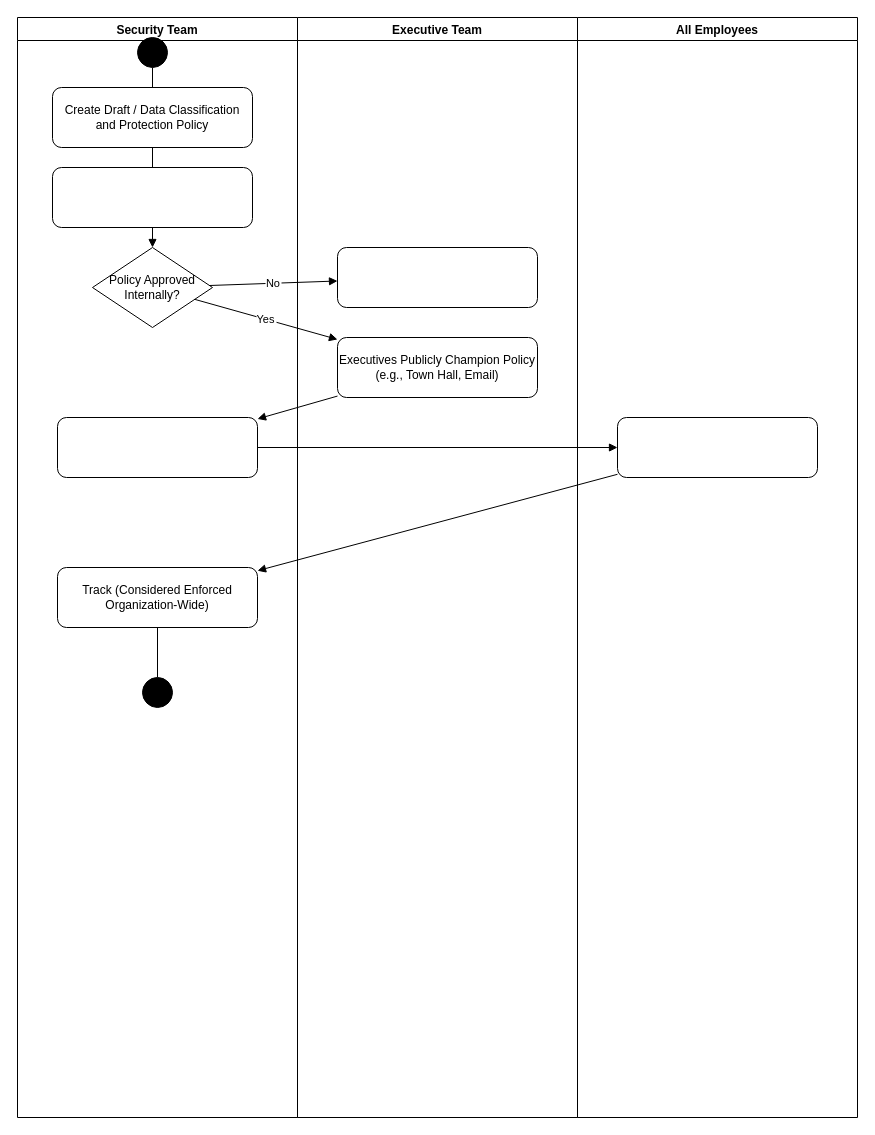
Image size: 875x1135. Some labels were removed from this diagram. Each missing label, with the centre of its shape:
"Develop Training Modules and Communication Plan" goes at (x=157, y=447).
"Review Draft with Legal, Compliance and Security Teams" goes at (x=152, y=197).
"Revise Policy" goes at (x=437, y=277).
"Roll Out Training to All Employees" goes at (x=717, y=447).
